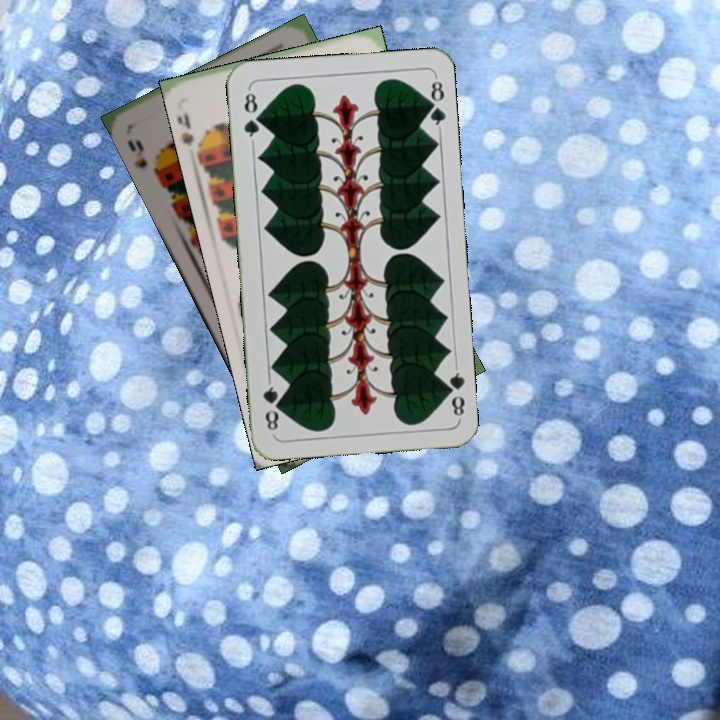G8: (440, 362, 467, 421), (239, 85, 263, 144)
S9: (175, 106, 211, 158), (123, 135, 162, 182)
